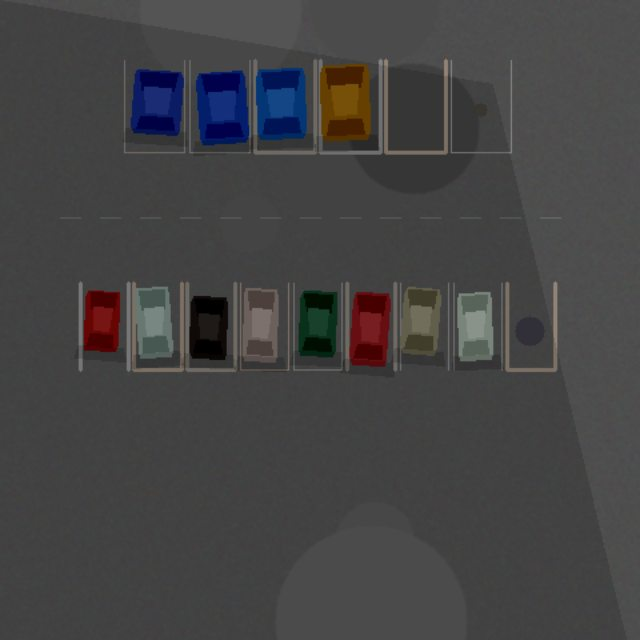space-empty: (385, 60, 445, 152), (451, 60, 511, 152), (507, 283, 555, 369)
space-occupied: (124, 60, 184, 152), (189, 60, 249, 152), (255, 60, 315, 152), (320, 60, 380, 152), (80, 283, 128, 369), (133, 283, 181, 369), (187, 283, 235, 369), (240, 283, 288, 369), (293, 283, 341, 369), (347, 283, 395, 369), (400, 283, 448, 369), (453, 283, 501, 369)
